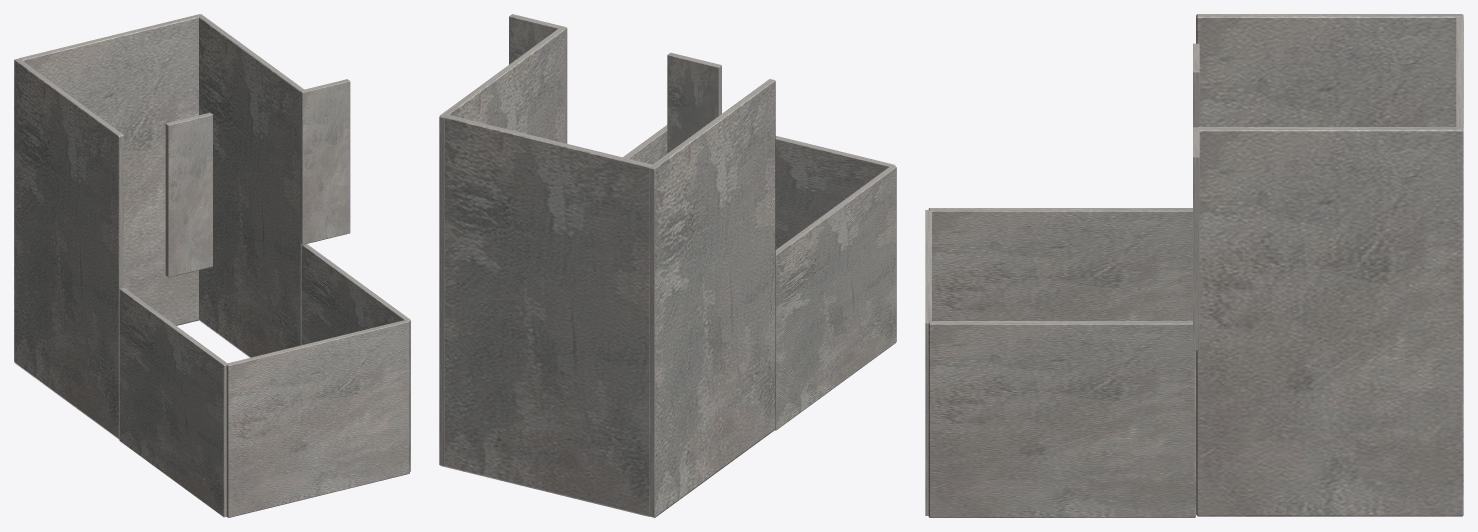
The model's file is FirstFloor_B1_Wall.fbx.
3 renders of one model, left to right at view 1: azimuth 30°, elevation 25°; view 2: azimuth 150°, elevation 25°; view 3: azimuth 270°, elevation 25°, orthographic. The views are drawn at different scales.
Parts seen in each view (by area): view 1: FirstFloor_B1_Wall; view 2: FirstFloor_B1_Wall; view 3: FirstFloor_B1_Wall.
Boxes of the visible parts, <box> form: FirstFloor_B1_Wall: <box>14,14,410,517</box>; FirstFloor_B1_Wall: <box>439,14,896,517</box>; FirstFloor_B1_Wall: <box>925,14,1463,517</box>.
Size of the model in its own units: 1262 by 1600 by 2012.
Materials: 1 (1 with a texture image).
